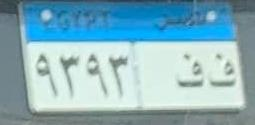3: (59, 53, 84, 100), (34, 53, 57, 102), (108, 54, 131, 99)
9: (87, 51, 106, 100)
faa: (173, 52, 204, 91), (209, 51, 236, 92)
